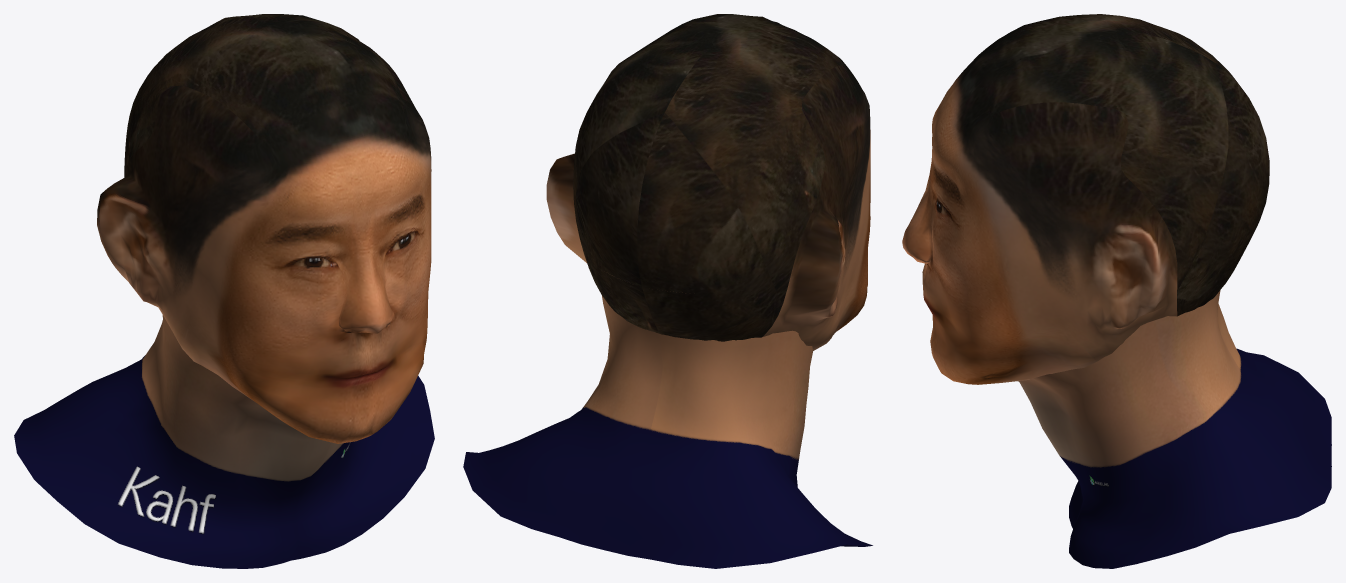
The model's file is 3D_KAHF_HeadNeck_Rectangle4.glb.
3 renders of one model, left to right at view 1: azimuth 30°, elevation 25°; view 2: azimuth 150°, elevation 25°; view 3: azimuth 270°, elevation 25°, orthographic. The views are drawn at different scales.
Visible parts, largest first — view 1: HEAD - SQUARE SHAPE.003, NECK - SQAURE SHAPE.005; view 2: HEAD - SQUARE SHAPE.003, NECK - SQAURE SHAPE.005; view 3: HEAD - SQUARE SHAPE.003, NECK - SQAURE SHAPE.005.
Part boxes in pixels (box(x1,y1,x2,y2)): HEAD - SQUARE SHAPE.003: box(97, 14, 431, 443); NECK - SQAURE SHAPE.005: box(14, 315, 434, 568); HEAD - SQUARE SHAPE.003: box(546, 14, 870, 350); NECK - SQAURE SHAPE.005: box(463, 275, 872, 568); HEAD - SQUARE SHAPE.003: box(902, 14, 1269, 384); NECK - SQAURE SHAPE.005: box(1018, 290, 1331, 568).
Size of the model in its own units: 0.2726 by 0.3492 by 0.2681.
2 materials, 2 textured.
